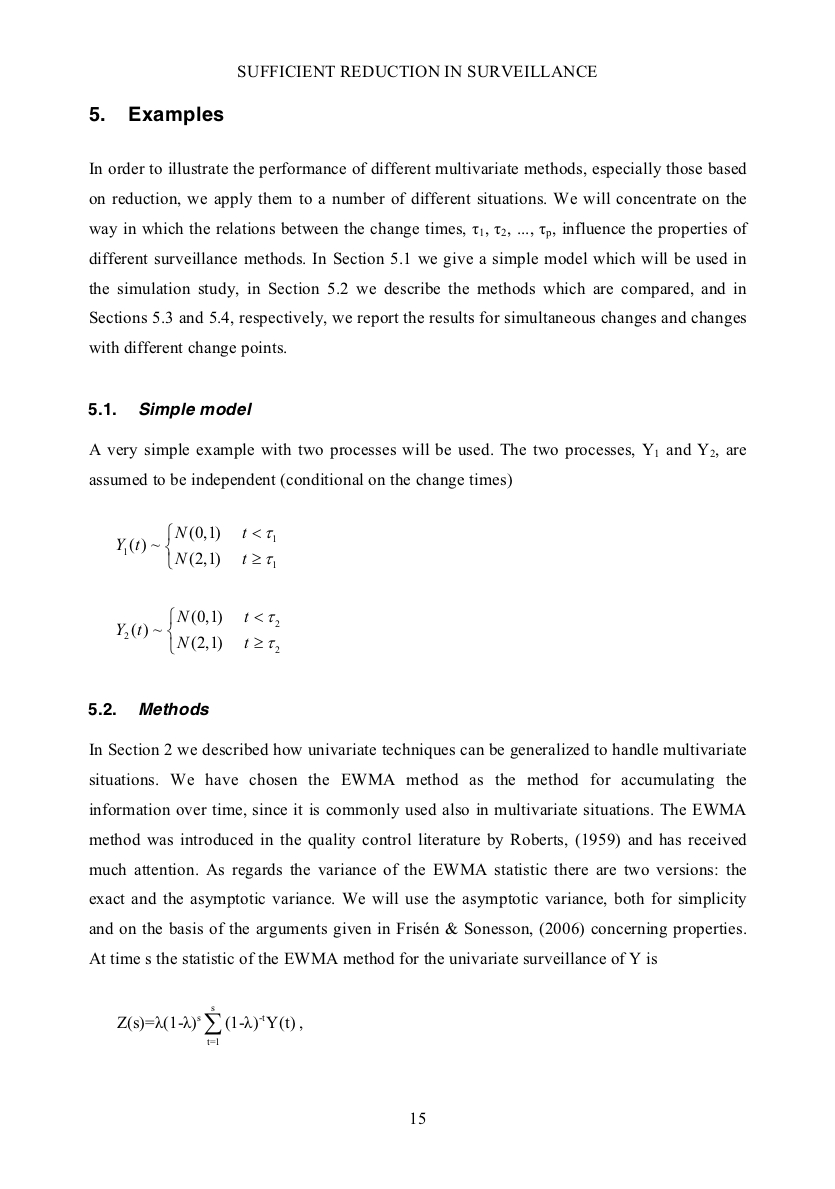formula: (116, 606, 279, 655), (116, 522, 275, 570), (117, 1006, 302, 1044)
